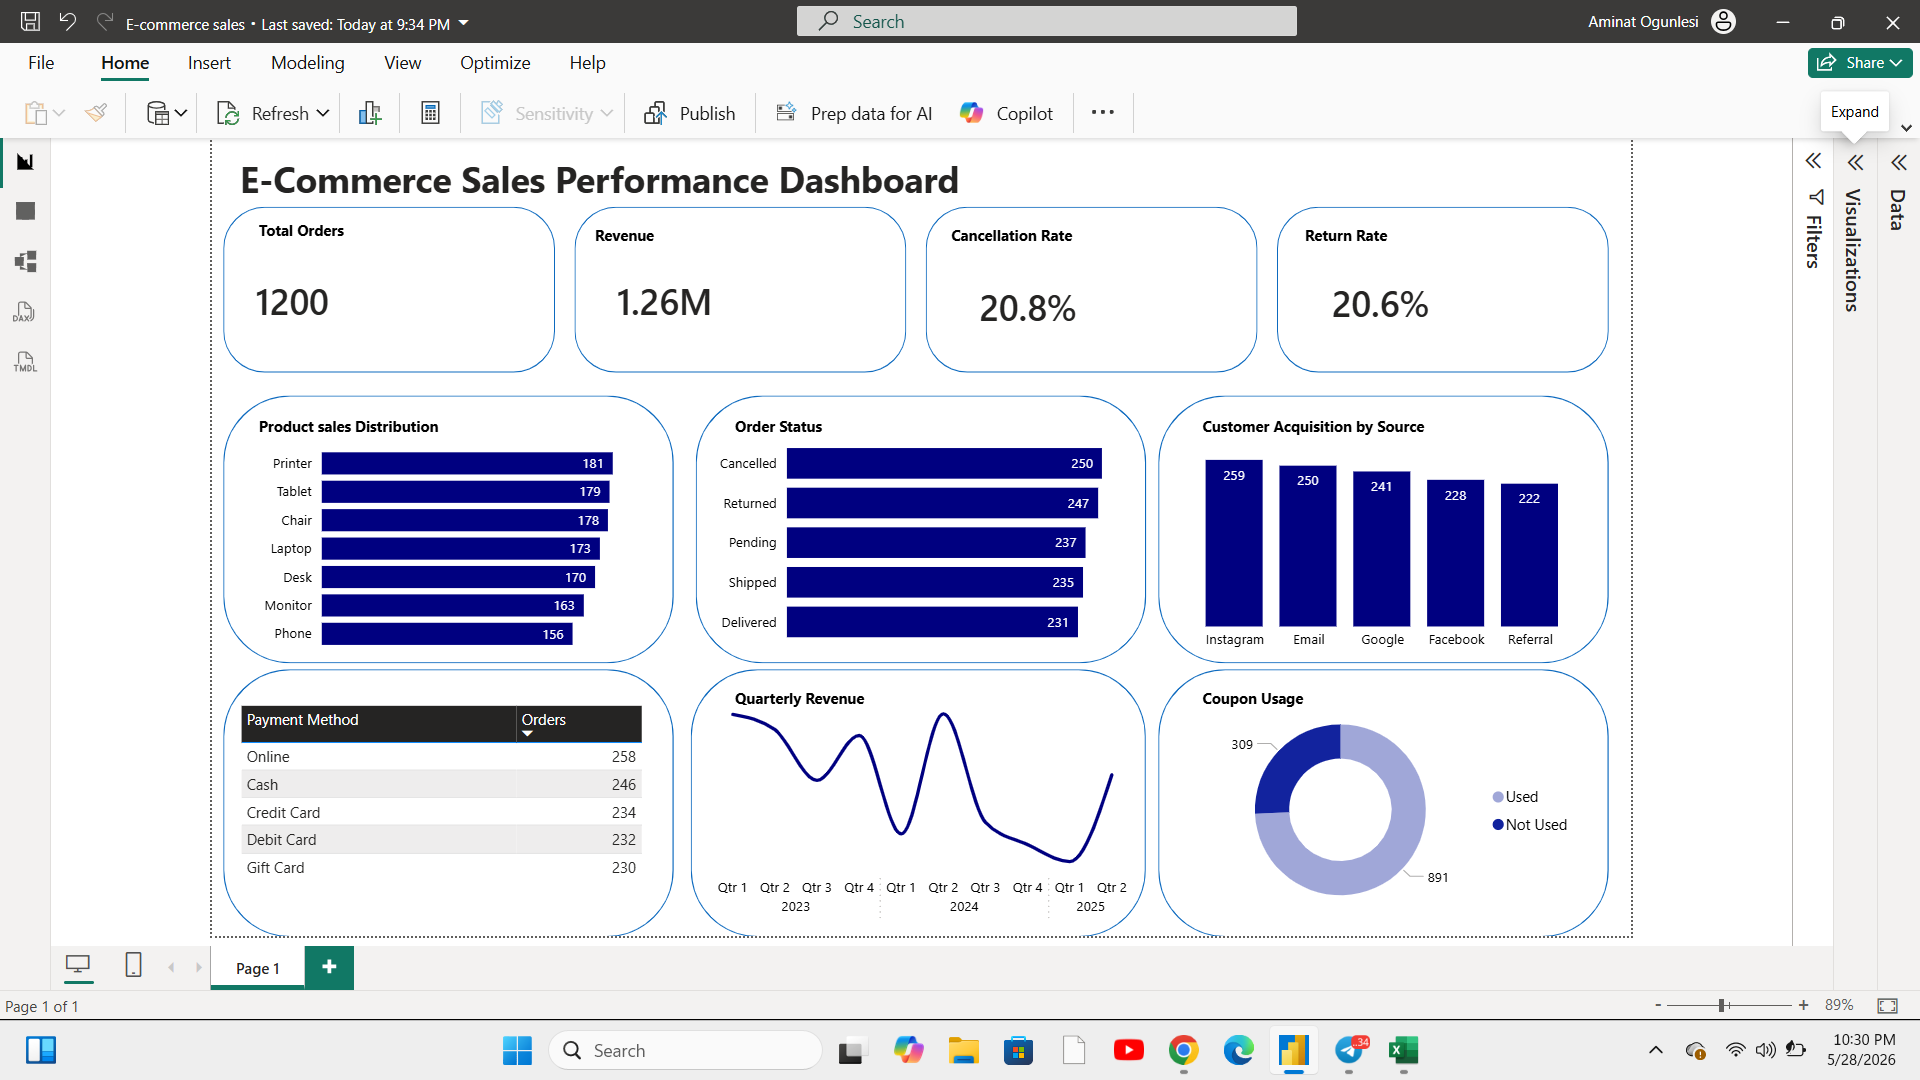

This screenshot's page, from the dashboard's own definition file:
{"tool":"powerbi","page":{"name":"Page 1","canvas":[1280,720],"ordinal":0},"visuals":[{"type":"shape","box":[9.6,0,1270.7,720.4],"z":0},{"type":"textbox","box":[20.6,9.6,712.2,76.8],"z":1000},{"type":"cardVisual","fields":{"Data":["CountNonNull(cleaned_data.OrderID)"]},"box":[9.6,79.6,274.4,131.7],"z":2000},{"type":"shape","box":[9.6,61.7,299.1,149.6],"z":3000},{"type":"shape","box":[326.6,61.7,299.1,149.6],"z":4000},{"type":"shape","box":[960.6,61.7,299.1,149.6],"z":5000},{"type":"shape","box":[643.6,61.7,299.1,149.6],"z":6000},{"type":"textbox","box":[37,68.6,299.1,35.7],"z":7000},{"type":"cardVisual","fields":{"Data":["cleaned_data.Revenue"]},"box":[336.2,94.7,236,101.5],"z":8000},{"type":"textbox","box":[340.3,72.7,299.1,59],"z":9000},{"type":"cardVisual","fields":{"Data":["cleaned_data.Cancellation Rate"]},"box":[662.8,104.3,252.5,91.9],"z":10000},{"type":"textbox","box":[661.4,72.7,299.1,52.1],"z":11000},{"type":"cardVisual","fields":{"Data":["cleaned_data.Return Rate"]},"box":[981.1,94.7,229.2,105.7],"z":12000},{"type":"textbox","box":[981.1,72.7,299.1,48],"z":13000},{"type":"shape","box":[853.5,231.9,406.2,241.5],"z":14000},{"type":"shape","box":[9.6,231.9,406.2,241.5],"z":15000},{"type":"shape","box":[436.4,231.9,406.2,241.5],"z":16000},{"type":"shape","box":[9.6,478.9,406.2,241.5],"z":17000},{"type":"shape","box":[432.2,478.9,410.3,241.5],"z":18000},{"type":"shape","box":[853.5,478.9,406.2,241.5],"z":19000},{"type":"textbox","box":[37,245.6,299.1,31.6],"z":20000},{"type":"textbox","box":[887.8,245.6,299.1,31.6],"z":21000},{"type":"textbox","box":[466.6,245.6,299.1,31.6],"z":22000},{"type":"textbox","box":[466.6,491.3,299.1,31.6],"z":23000},{"type":"textbox","box":[887.8,491.3,299.1,31.6],"z":24000},{"type":"clusteredBarChart","fields":{"Category":["cleaned_data.Product"],"Y":["CountNonNull(cleaned_data.OrderID)"]},"box":[37,260.7,356.8,212.7],"z":25000},{"type":"clusteredBarChart","fields":{"Category":["cleaned_data.OrderStatus"],"Y":["CountNonNull(cleaned_data.OrderID)"]},"box":[448.7,252.5,384.2,218.2],"z":26000},{"type":"columnChart","fields":{"Category":["cleaned_data.ReferralSource"],"Y":["CountNonNull(cleaned_data.OrderID)"]},"box":[864.5,252.5,382.8,218.2],"z":27000},{"type":"tableEx","fields":{"Values":["cleaned_data.PaymentMethod","CountNonNull(cleaned_data.OrderID)"]},"box":[20.6,507.7,373.2,212.7],"z":28000},{"type":"lineChart","fields":{"Y":["Sum(cleaned_data.TotalPrice)"],"Category":["cleaned_data.Date.Variation.Date Hierarchy.Year","cleaned_data.Date.Variation.Date Hierarchy.Quarter"]},"box":[448.7,491.3,384.2,223.7],"z":29000},{"type":"donutChart","fields":{"Y":["CountNonNull(cleaned_data.OrderID)"],"Category":["cleaned_data.Coupon Usage"]},"box":[876.8,491.3,359.5,229.2],"z":29001}]}

Visuals, with their boxes on the page's 1280x720 design canvas (x1, y1, x2, y2). These are canvas units, not pixel positions in the 1920x1080 screenshot, which may show the page scaled, cropped or inside an application window:
shape: (left=10, top=0, right=1280, bottom=720)
textbox: (left=21, top=10, right=733, bottom=86)
cardVisual - CountNonNull(cleaned_data.OrderID): (left=10, top=80, right=284, bottom=211)
shape: (left=10, top=62, right=309, bottom=211)
shape: (left=327, top=62, right=626, bottom=211)
shape: (left=961, top=62, right=1260, bottom=211)
shape: (left=644, top=62, right=943, bottom=211)
textbox: (left=37, top=69, right=336, bottom=104)
cardVisual - cleaned_data.Revenue: (left=336, top=95, right=572, bottom=196)
textbox: (left=340, top=73, right=639, bottom=132)
cardVisual - cleaned_data.Cancellation Rate: (left=663, top=104, right=915, bottom=196)
textbox: (left=661, top=73, right=960, bottom=125)
cardVisual - cleaned_data.Return Rate: (left=981, top=95, right=1210, bottom=200)
textbox: (left=981, top=73, right=1280, bottom=121)
shape: (left=854, top=232, right=1260, bottom=473)
shape: (left=10, top=232, right=416, bottom=473)
shape: (left=436, top=232, right=843, bottom=473)
shape: (left=10, top=479, right=416, bottom=720)
shape: (left=432, top=479, right=842, bottom=720)
shape: (left=854, top=479, right=1260, bottom=720)
textbox: (left=37, top=246, right=336, bottom=277)
textbox: (left=888, top=246, right=1187, bottom=277)
textbox: (left=467, top=246, right=766, bottom=277)
textbox: (left=467, top=491, right=766, bottom=523)
textbox: (left=888, top=491, right=1187, bottom=523)
clusteredBarChart - cleaned_data.Product x CountNonNull(cleaned_data.OrderID): (left=37, top=261, right=394, bottom=473)
clusteredBarChart - cleaned_data.OrderStatus x CountNonNull(cleaned_data.OrderID): (left=449, top=252, right=833, bottom=471)
columnChart - cleaned_data.ReferralSource x CountNonNull(cleaned_data.OrderID): (left=864, top=252, right=1247, bottom=471)
tableEx - cleaned_data.PaymentMethod x CountNonNull(cleaned_data.OrderID): (left=21, top=508, right=394, bottom=720)
lineChart - Sum(cleaned_data.TotalPrice) x cleaned_data.Date.Variation.Date Hierarchy.Year: (left=449, top=491, right=833, bottom=715)
donutChart - CountNonNull(cleaned_data.OrderID) x cleaned_data.Coupon Usage: (left=877, top=491, right=1236, bottom=720)
